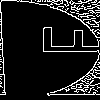F: (24, 25, 100, 56)
